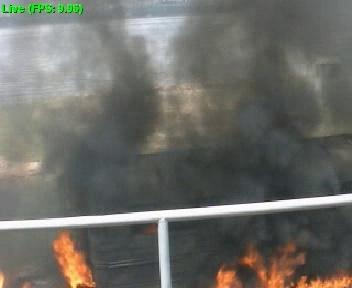fire: (219, 251, 352, 286), (57, 234, 97, 286)
smoke: (177, 0, 345, 242), (47, 9, 149, 233)
